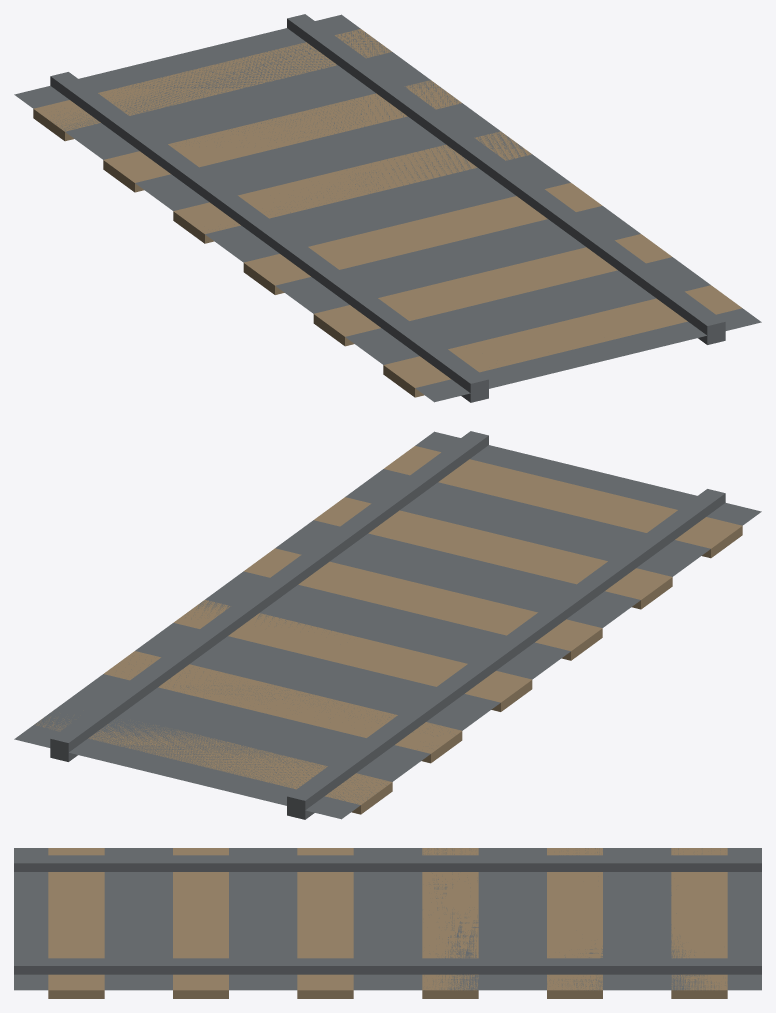
File: LightWoodMechMediumTrainTrack1.fbx
3 renders of one model, top to bottom at view 1: azimuth 30°, elevation 25°; view 2: azimuth 150°, elevation 25°; view 3: azimuth 270°, elevation 25°, orthographic. The views are drawn at different scales.
Visible parts, largest first — view 1: LightWoodMechMediumTrainTrack1, COLSurface; view 2: LightWoodMechMediumTrainTrack1, COLSurface; view 3: LightWoodMechMediumTrainTrack1, COLSurface.
Boxes of the visible parts, x1,y1,x2,y2 form: LightWoodMechMediumTrainTrack1: (33, 14, 742, 402); COLSurface: (14, 14, 761, 402); LightWoodMechMediumTrainTrack1: (34, 431, 742, 819); COLSurface: (14, 431, 761, 819); LightWoodMechMediumTrainTrack1: (14, 848, 761, 998); COLSurface: (14, 848, 761, 990).
Bounding box in the file's own units: 180 × 10 × 400.
